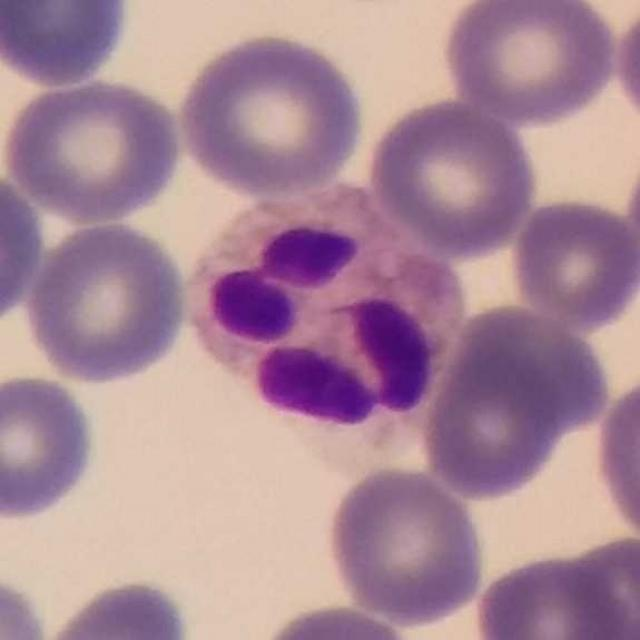Neutrophil: (186, 180, 474, 446)
RBC: (415, 300, 607, 503), (173, 27, 370, 199), (20, 217, 193, 387), (364, 95, 541, 258), (320, 461, 490, 629), (0, 74, 187, 225), (439, 0, 622, 128), (506, 194, 640, 332), (0, 370, 100, 524), (468, 548, 634, 640), (0, 0, 137, 89), (37, 574, 197, 640), (555, 531, 640, 640), (591, 368, 640, 548), (0, 168, 48, 333), (252, 600, 420, 640), (611, 0, 640, 138), (0, 569, 51, 640)
